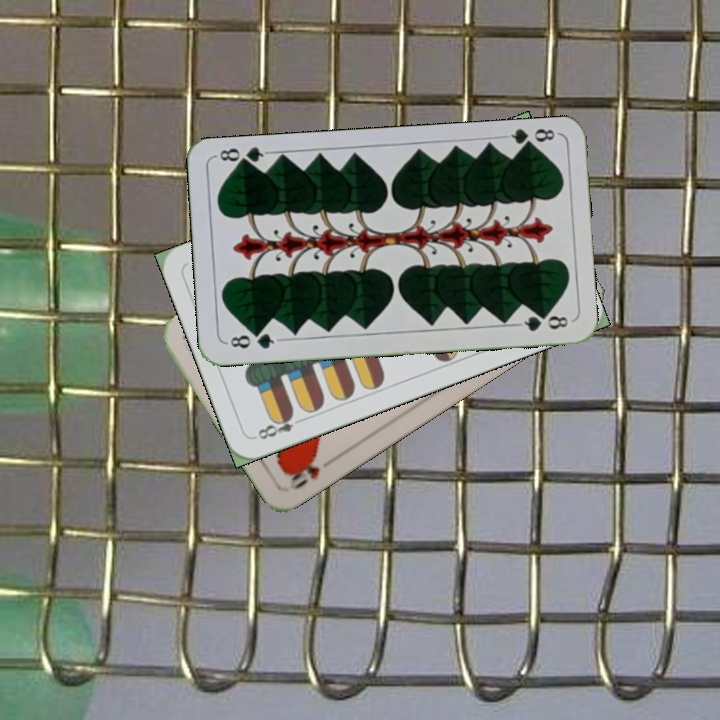E8: (253, 408, 308, 442)
G8: (501, 124, 560, 153), (223, 328, 282, 352)
HO: (284, 452, 323, 493)
